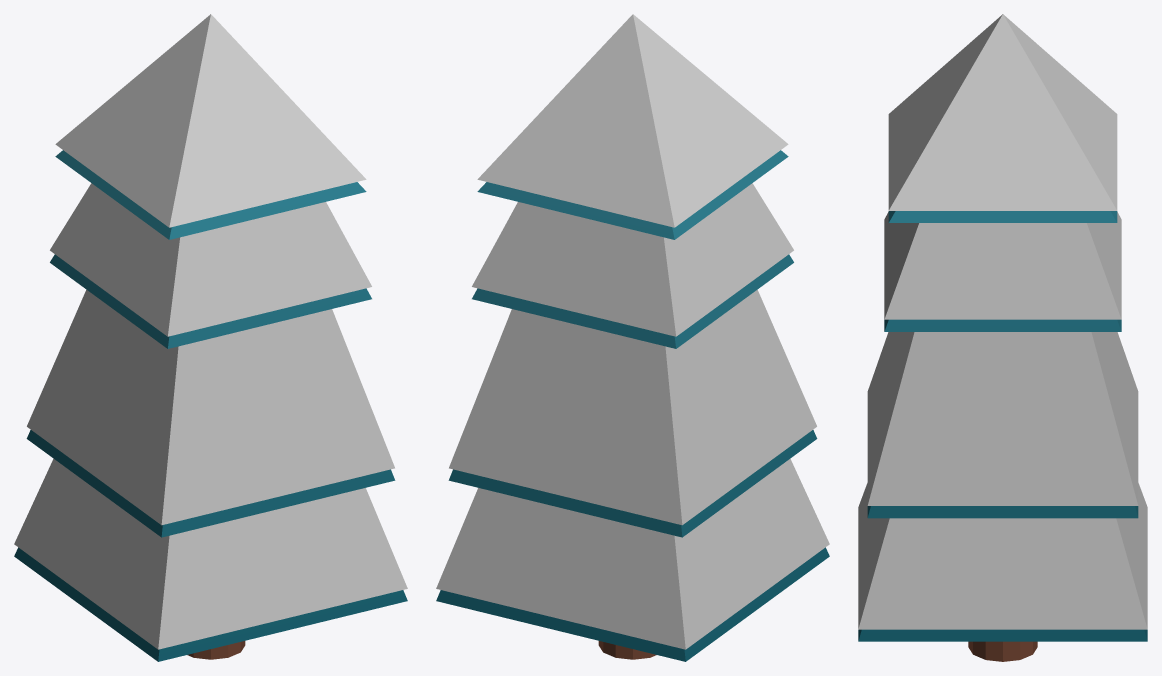
The model's file is Tree_17_winter_gradient_blue_vc.fbx.
3 renders of one model, left to right at view 1: azimuth 30°, elevation 25°; view 2: azimuth 150°, elevation 25°; view 3: azimuth 270°, elevation 25°, orthographic.
Visible parts, largest first — view 1: Tree_17_winter_gradient_blue_vc; view 2: Tree_17_winter_gradient_blue_vc; view 3: Tree_17_winter_gradient_blue_vc.
Part boxes in pixels (x1,y1,x2,y2): Tree_17_winter_gradient_blue_vc: (14,14,407,661); Tree_17_winter_gradient_blue_vc: (436,14,829,661); Tree_17_winter_gradient_blue_vc: (858,14,1147,661).
Bounding box in the file's own units: 65.5 × 158 × 65.5.
